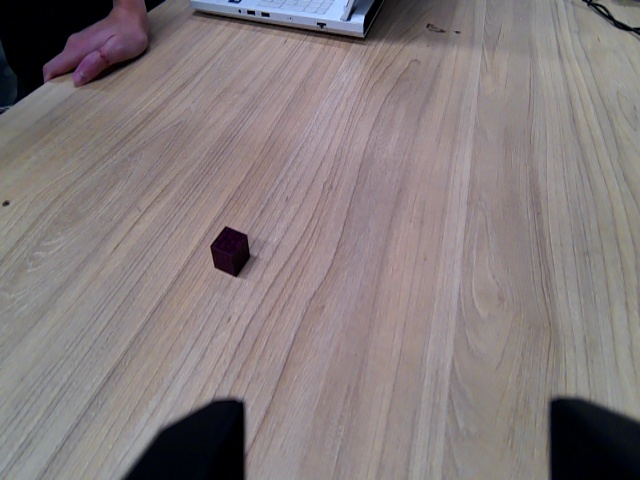brick: (207, 225, 251, 280)
